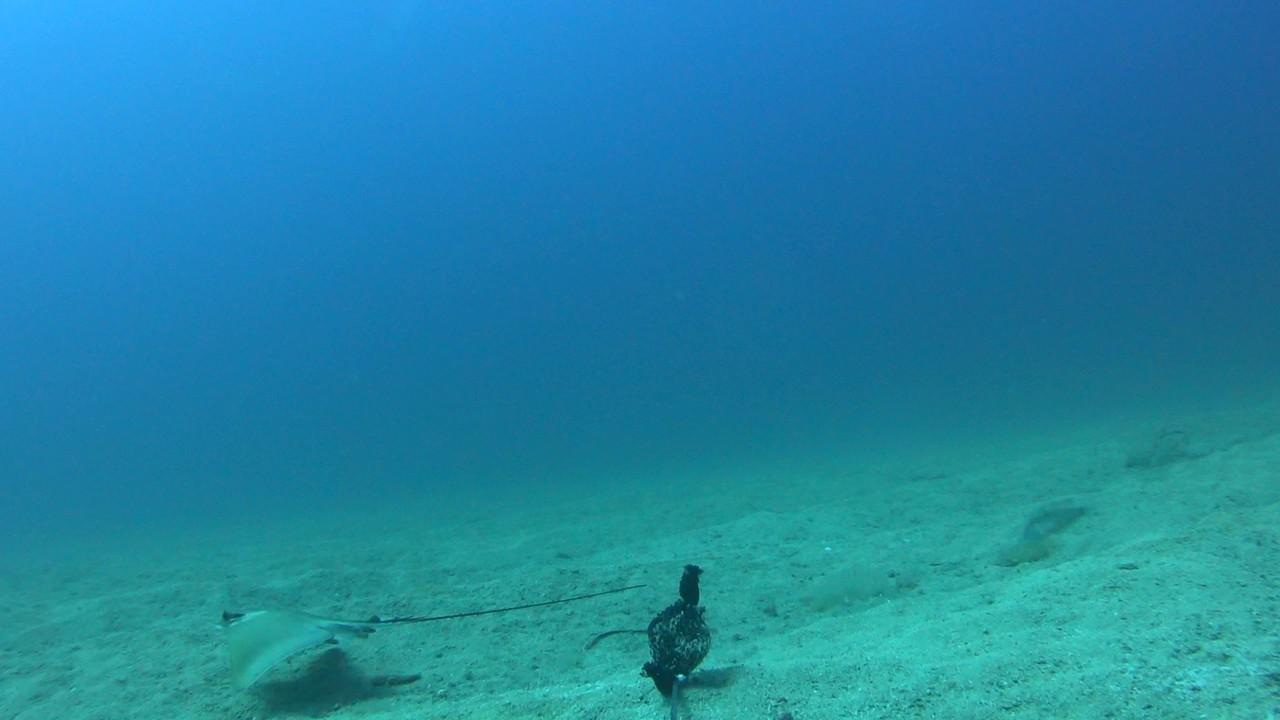myliobatis: (187, 548, 690, 685)
raor: (1020, 499, 1092, 547)
